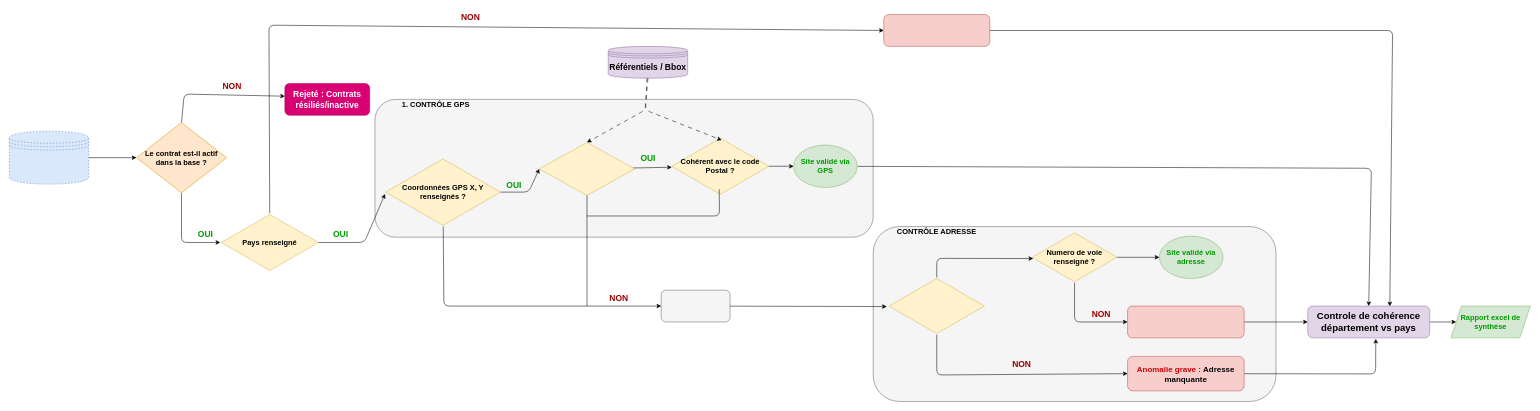
The diagram is 1540 pixels wide and 411 high, and some of its shapes have lost their labels. Here are the shapes that lost their labels. From the top down, the box of each, then its label:
(883, 14, 990, 46): Anomalie grave: Pays manquante
(9, 131, 89, 184): Fichier source de proxima
(539, 142, 635, 195): Dans BBOX (les frontières) du pays
(661, 290, 730, 322): Bascule sur le controle adresse
(889, 277, 984, 335): Adresse complète renseignée ?
(1127, 306, 1244, 338): Anomalie mineure : Numéro de rue manquante. Rue à vérifier
